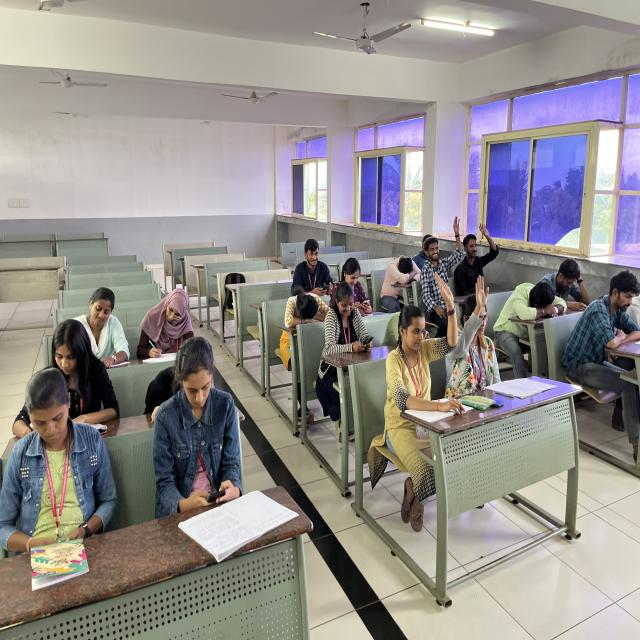Hand Rising: (386, 272, 454, 392), (423, 209, 462, 312)
Reading: (75, 268, 137, 374)
Sleeping: (460, 206, 498, 290), (281, 287, 332, 339), (377, 240, 418, 303)
Using Phone: (145, 338, 258, 508), (20, 372, 110, 536), (322, 283, 373, 365), (288, 226, 334, 297), (332, 248, 376, 314)
Writing: (0, 321, 114, 449), (130, 275, 197, 368)
